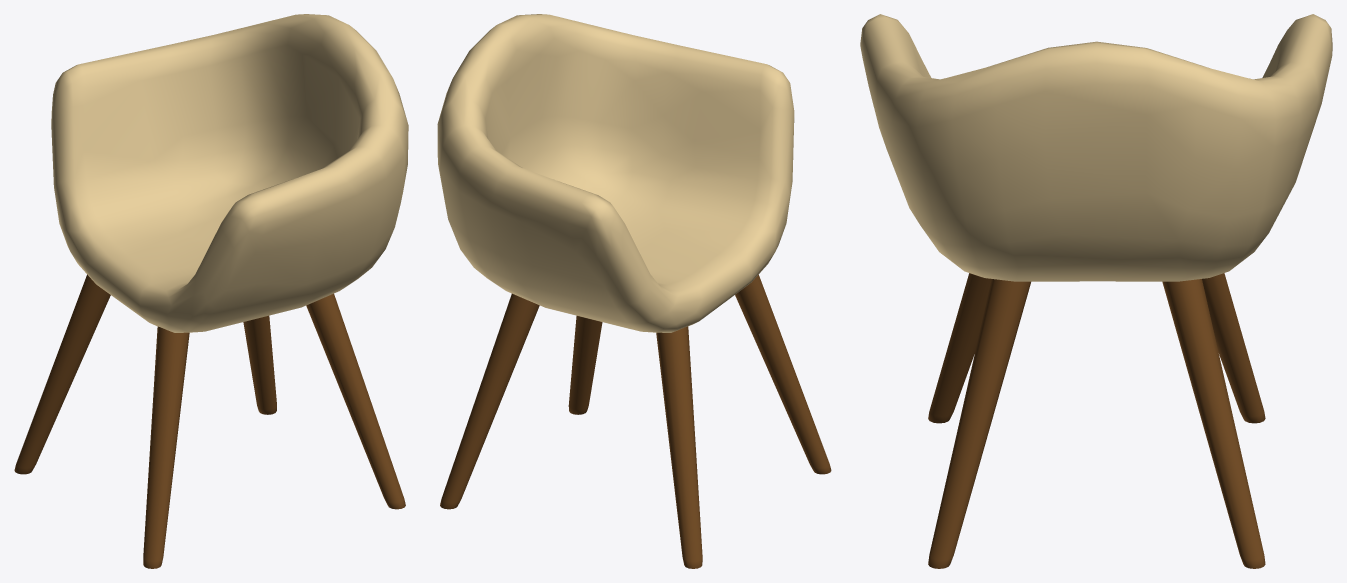
Rendered from chair_06_white.fbx.
3 views of the same model, side by side, from view 1: azimuth 30°, elevation 25°; view 2: azimuth 150°, elevation 25°; view 3: azimuth 270°, elevation 25° (orthographic). The views are drawn at different scales.
Visible parts, largest first — view 1: chair_06_white; view 2: chair_06_white; view 3: chair_06_white.
Part boxes in pixels (x1,y1,x2,y2): chair_06_white: (14, 14, 408, 568); chair_06_white: (437, 14, 831, 568); chair_06_white: (860, 14, 1332, 568).
Bounding box in the file's own units: 55.35 × 80.79 × 65.62.
Materials: 1 (1 with a texture image).
